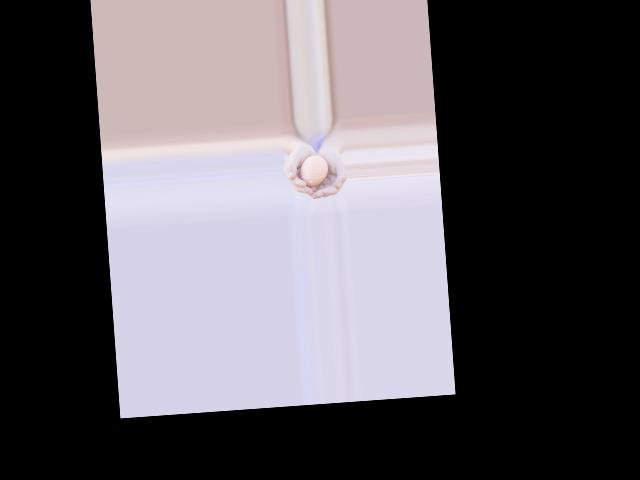egg: (299, 154, 330, 186)
